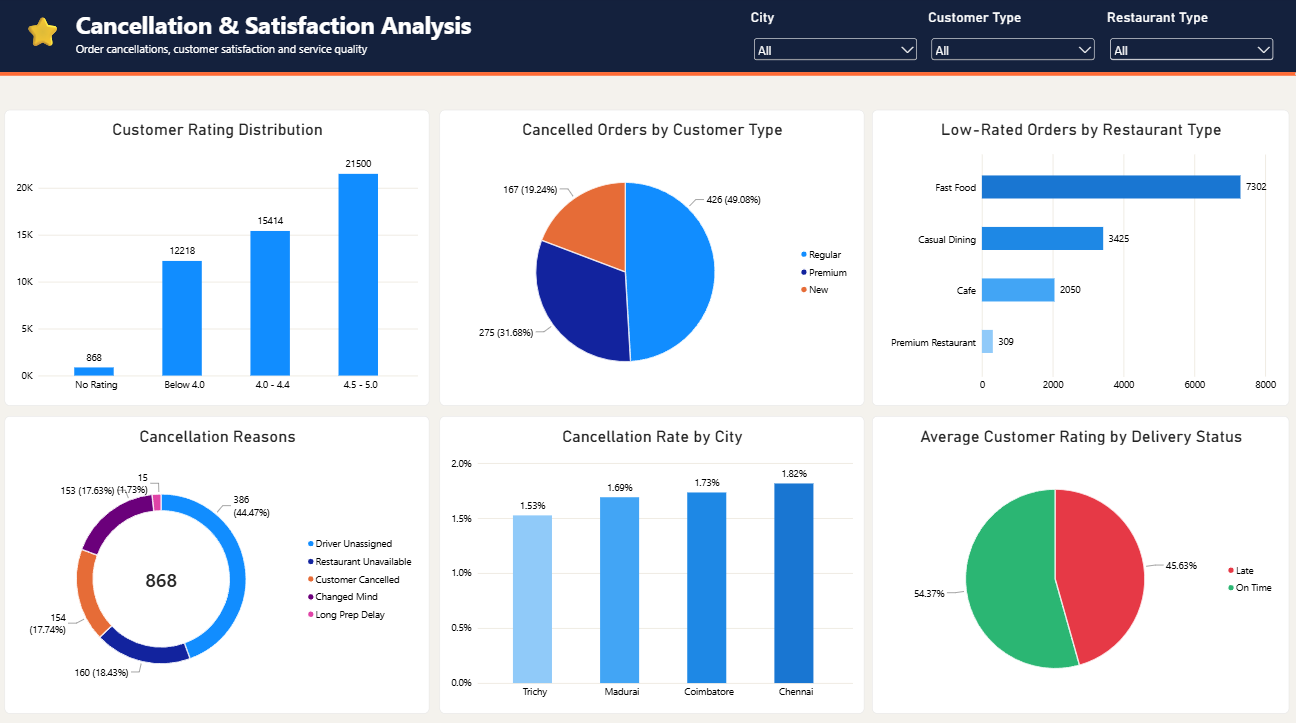

The dashboard page shown, as its layout file describes it:
{"tool":"powerbi","page":{"name":"Cancellation & Satisfaction Analysis","canvas":[1920,1080],"ordinal":4},"visuals":[{"type":"clusteredColumnChart","title":"Cancellation Rate by City","fields":{"Category":["food_delivery_orders_cleaned.city"],"Y":["food_delivery_orders_cleaned.Cancellation Rate"]},"box":[651.5,618.4,625.8,438],"z":0},{"type":"clusteredColumnChart","title":"Customer Rating Distribution","fields":{"Category":["food_delivery_orders_cleaned.Customer Rating Band"],"Y":["food_delivery_orders_cleaned.Total_Orders"]},"box":[11,167.5,625.8,436.2],"z":1000},{"type":"clusteredBarChart","title":"Low-Rated Orders by Restaurant Type","fields":{"Category":["food_delivery_orders_cleaned.restaurant_type"],"Y":["food_delivery_orders_cleaned.Low Rated Orders"]},"box":[1288.4,167.5,614.7,436.2],"z":2000},{"type":"donutChart","title":"Cancellation Reasons","fields":{"Category":["food_delivery_orders_cleaned.cancellation_reason"],"Y":["food_delivery_orders_cleaned.Total_Orders"]},"box":[11,618.4,625.8,438],"z":3000},{"type":"pieChart","title":"Cancelled Orders by Customer Type","fields":{"Category":["food_delivery_orders_cleaned.customer_type"],"Y":["food_delivery_orders_cleaned.Cancelled_Orders"]},"box":[651.5,167.5,625.8,436.2],"z":4000},{"type":"pieChart","title":"Average Customer Rating by Delivery Status","fields":{"Category":["food_delivery_orders_cleaned.Delivery Status"],"Y":["food_delivery_orders_cleaned.Customer Rating"]},"box":[1288.4,618.4,614.7,438],"z":5000},{"type":"textbox","box":[0,0,1920,112],"z":6000},{"type":"textbox","box":[0,112,1920,5],"z":7000},{"type":"textbox","box":[33.1,11,68,68],"z":8000},{"type":"textbox","box":[116,66,1000,34],"z":9000},{"type":"textbox","box":[116,18,1000,52],"z":10000},{"type":"slicer","title":"City","fields":{"Values":["food_delivery_orders_cleaned.city"]},"box":[1110,18,250,80],"z":11000},{"type":"slicer","title":"Customer Type","fields":{"Values":["food_delivery_orders_cleaned.customer_type"]},"box":[1372,18,250,80],"z":12000},{"type":"slicer","title":"Restaurant Type","fields":{"Values":["food_delivery_orders_cleaned.restaurant_type"]},"box":[1634,18,250,80],"z":13000}]}

Visuals, with their boxes in screenshot pixels (x1, y1, x2, y2), scaled from the page's 1920x1080 canvas onto the 1296x723 screenshot:
"Cancellation Rate by City" clusteredColumnChart: <region>440, 414, 862, 707</region>
"Customer Rating Distribution" clusteredColumnChart: <region>7, 112, 430, 404</region>
"Low-Rated Orders by Restaurant Type" clusteredBarChart: <region>870, 112, 1285, 404</region>
"Cancellation Reasons" donutChart: <region>7, 414, 430, 707</region>
"Cancelled Orders by Customer Type" pieChart: <region>440, 112, 862, 404</region>
"Average Customer Rating by Delivery Status" pieChart: <region>870, 414, 1285, 707</region>
textbox: <region>0, 0, 1295, 75</region>
textbox: <region>0, 75, 1295, 78</region>
textbox: <region>22, 7, 68, 53</region>
textbox: <region>78, 44, 753, 67</region>
textbox: <region>78, 12, 753, 47</region>
"City" slicer: <region>749, 12, 918, 66</region>
"Customer Type" slicer: <region>926, 12, 1095, 66</region>
"Restaurant Type" slicer: <region>1103, 12, 1272, 66</region>
